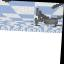drone: (31, 7, 64, 27)
